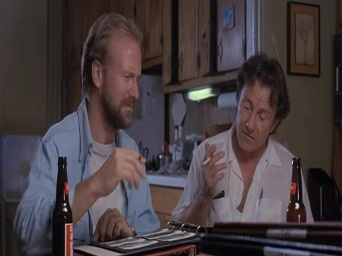smoke: (197, 153, 213, 170), (136, 151, 142, 163)
